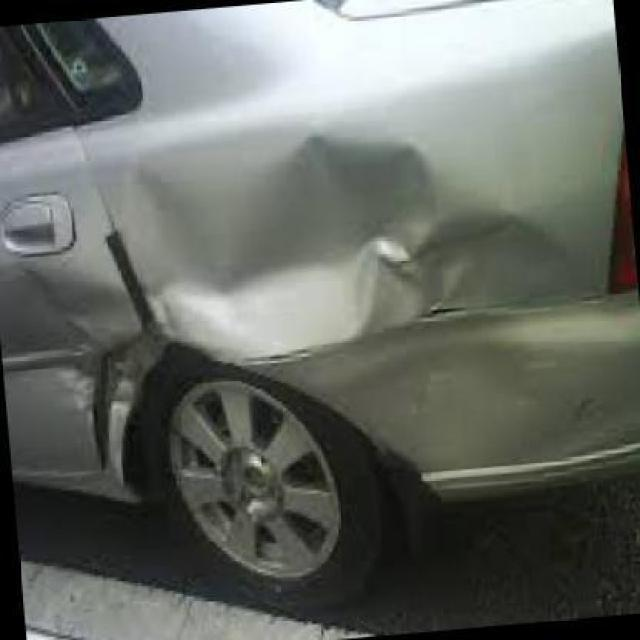dent: (123, 132, 438, 358)
